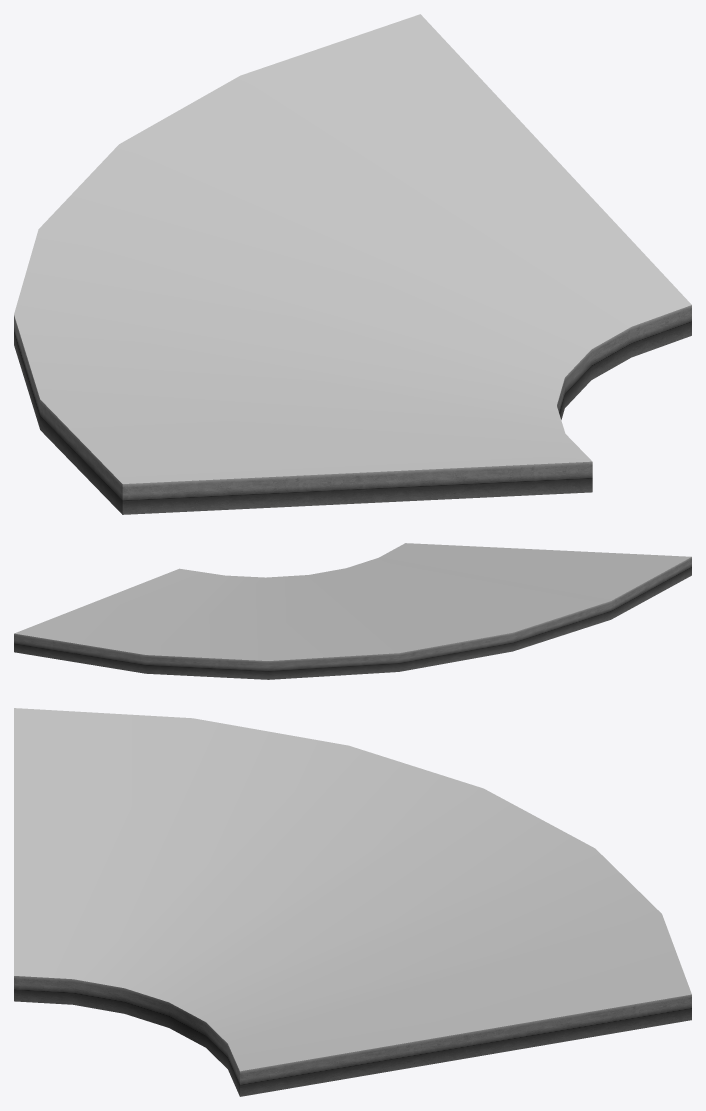
Rendered from Bend1x1_Banked.fbx.
3 views of the same model, one above another, from view 1: azimuth 30°, elevation 25°; view 2: azimuth 150°, elevation 25°; view 3: azimuth 270°, elevation 25° (orthographic). The views are drawn at different scales.
Visible parts, largest first — view 1: Empty_Mesh; view 2: Empty_Mesh; view 3: Empty_Mesh.
Boxes of the visible parts, x1,y1,x2,y2 form: Empty_Mesh: [14, 14, 691, 514]; Empty_Mesh: [14, 543, 691, 679]; Empty_Mesh: [14, 708, 691, 1096].
Size of the model in its own units: 2400 by 400 by 2400.
